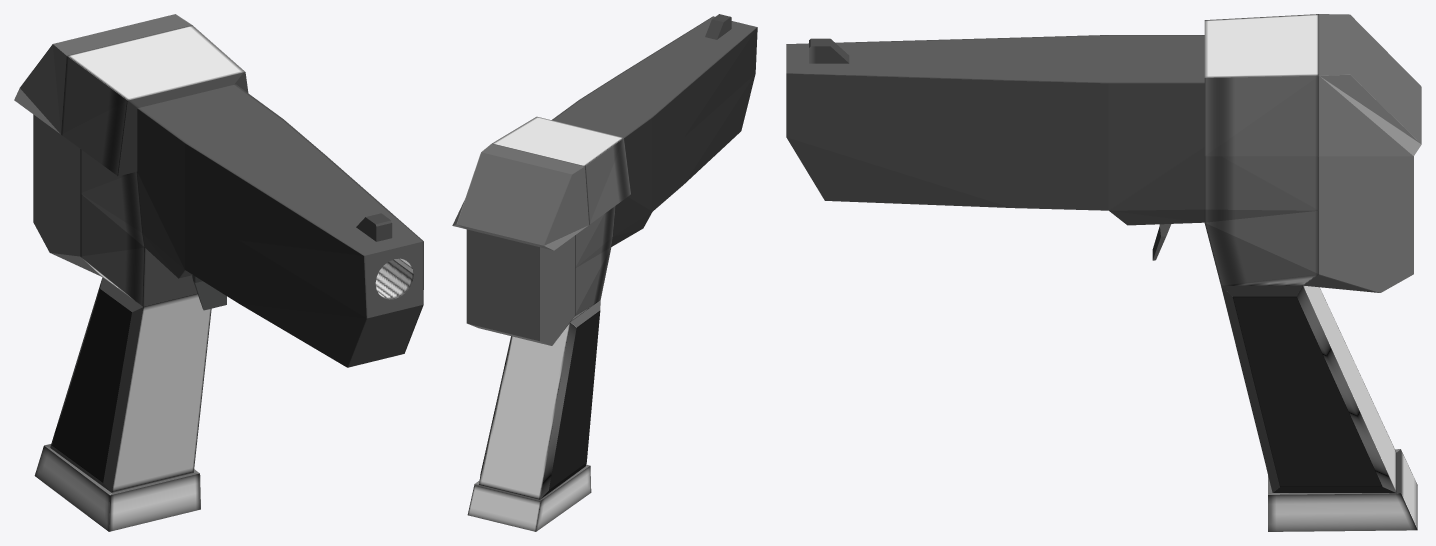
File: GunMesh.fbx
3 views of the same model, side by side, from view 1: azimuth 30°, elevation 25°; view 2: azimuth 150°, elevation 25°; view 3: azimuth 270°, elevation 25° (orthographic). The views are drawn at different scales.
Parts seen in each view (by area): view 1: pCube10; view 2: pCube10; view 3: pCube10.
Boxes of the visible parts, x1,y1,x2,y2 form: pCube10: [14, 14, 423, 531]; pCube10: [452, 14, 757, 531]; pCube10: [786, 14, 1421, 531].
Bounding box in the file's own units: 29.15 × 94.42 × 116.
Materials: 1 (1 with a texture image).
